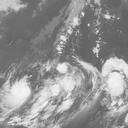cyclone: (39, 65, 82, 108), (97, 57, 127, 102), (4, 78, 30, 108)
